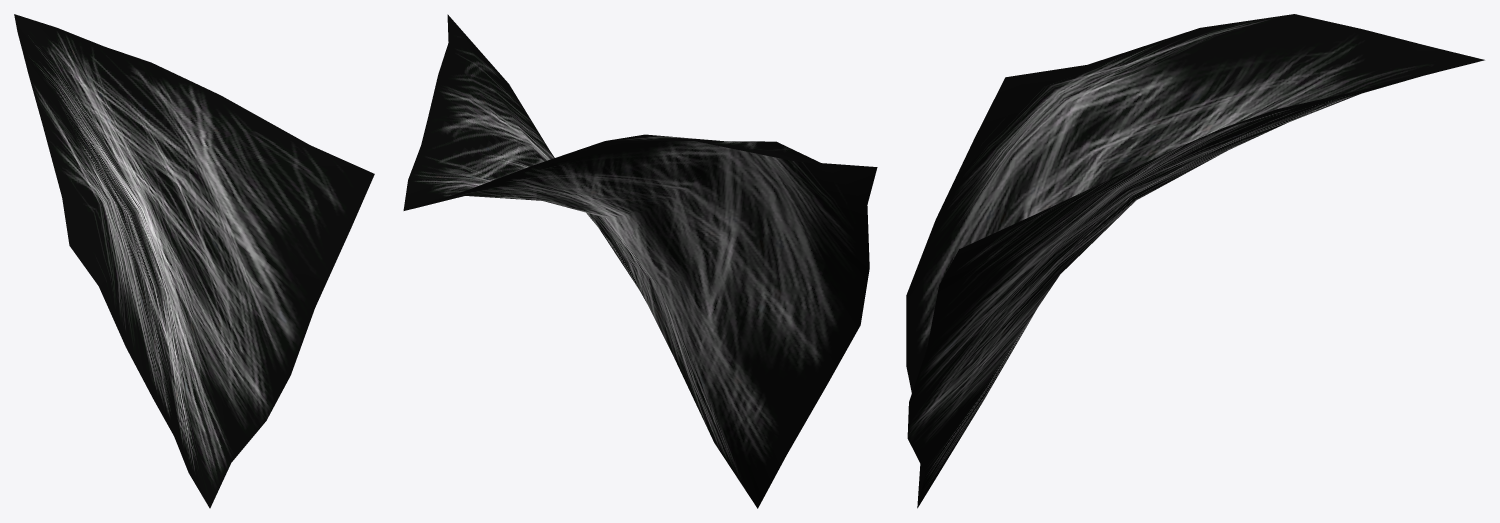
File: SWORDLIGHT20_PS-AREA01_CORNERWEB17.fbx
3 renders of one model, left to right at view 1: azimuth 30°, elevation 25°; view 2: azimuth 150°, elevation 25°; view 3: azimuth 270°, elevation 25°, orthographic. The views are drawn at different scales.
Parts seen in each view (by area): view 1: SWORDLIGHT20_PS-AREA01_CORNERWEB17; view 2: SWORDLIGHT20_PS-AREA01_CORNERWEB17; view 3: SWORDLIGHT20_PS-AREA01_CORNERWEB17.
Boxes of the visible parts, x1,y1,x2,y2 form: SWORDLIGHT20_PS-AREA01_CORNERWEB17: (14,14,374,508); SWORDLIGHT20_PS-AREA01_CORNERWEB17: (403,14,877,508); SWORDLIGHT20_PS-AREA01_CORNERWEB17: (906,14,1484,508).
Bounding box in the file's own units: 54313 × 62001 × 69746.
1 material, 1 textured.
